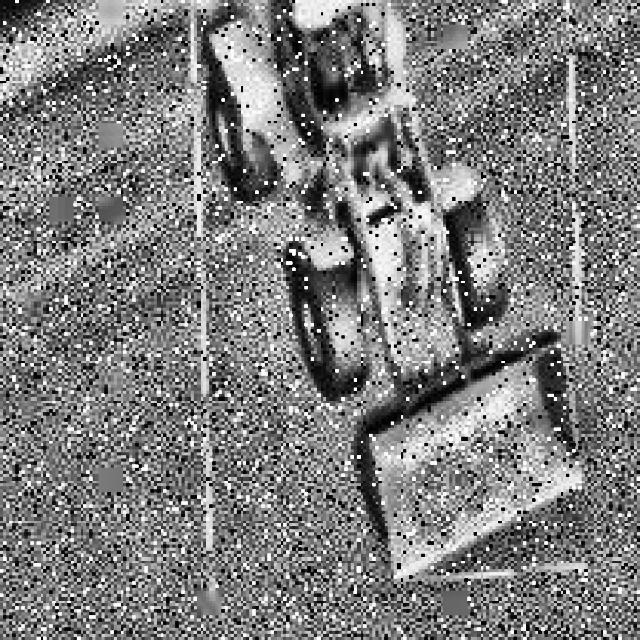buldozerpayloadergrader: (172, 0, 606, 588)
